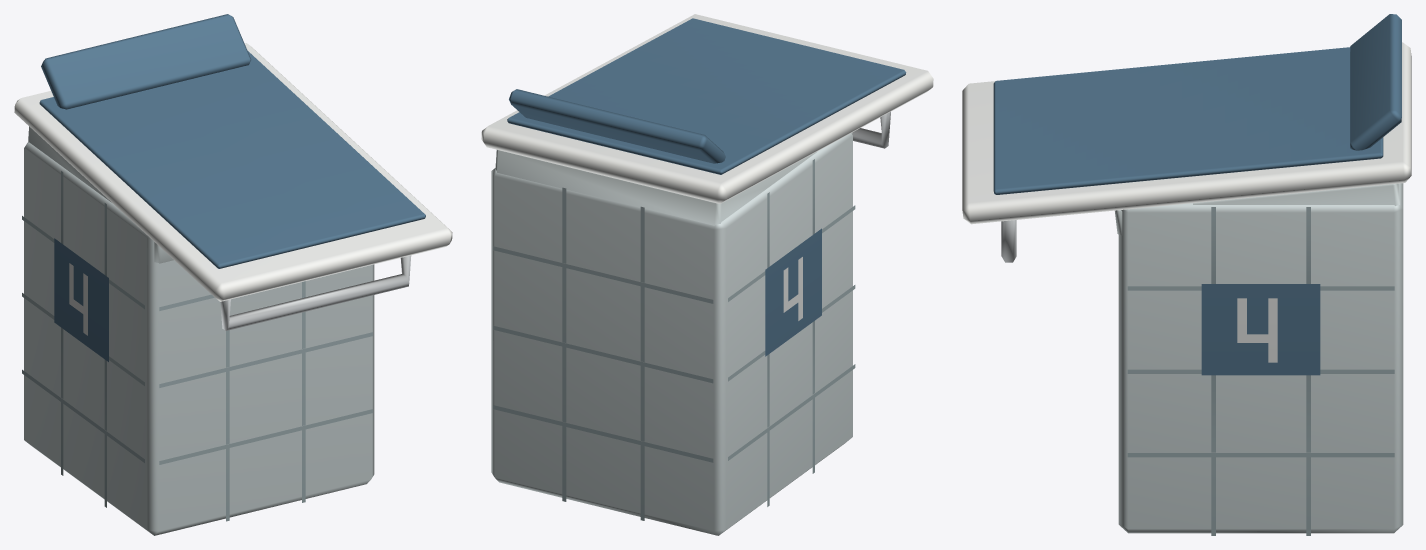
The model's file is starting_block.glb.
The picture shows the model from 3 angles, left to right: view 1: azimuth 30°, elevation 25°; view 2: azimuth 150°, elevation 25°; view 3: azimuth 270°, elevation 25°; orthographic projection. The views are drawn at different scales.
Parts seen in each view (by area): view 1: pool_starting_block; view 2: pool_starting_block; view 3: pool_starting_block.
Boxes of the visible parts, bbox=[...] form: pool_starting_block: bbox=[14, 14, 452, 535]; pool_starting_block: bbox=[481, 14, 933, 535]; pool_starting_block: bbox=[962, 14, 1411, 535].
Bounding box in the file's own units: 0.502 × 0.7724 × 0.7575.
